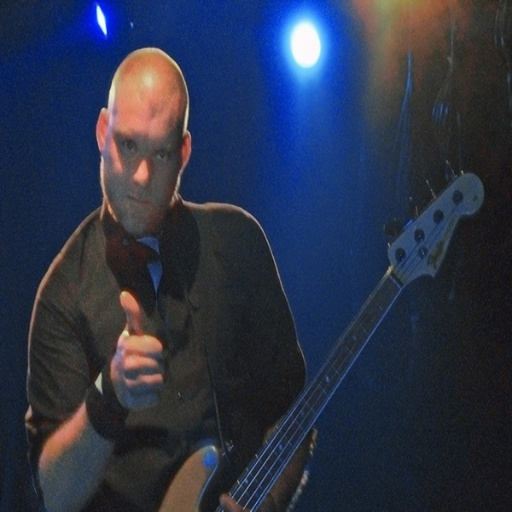hand: (99, 307, 164, 409), (218, 491, 244, 510)
